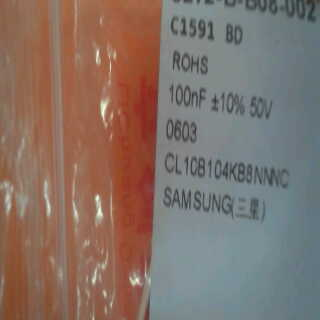100nF: (168, 75, 204, 116)
